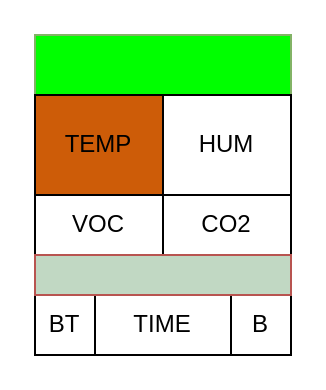
The diagram is 326 pixels wide and 390 high, and some of its shapes have lost their labels. The shapes that lost their labels are listed below. From the top down, each one's centre as x and y in pixels, then its label:
the point at 162,64: STATO
the point at 162,274: PRESSURE
